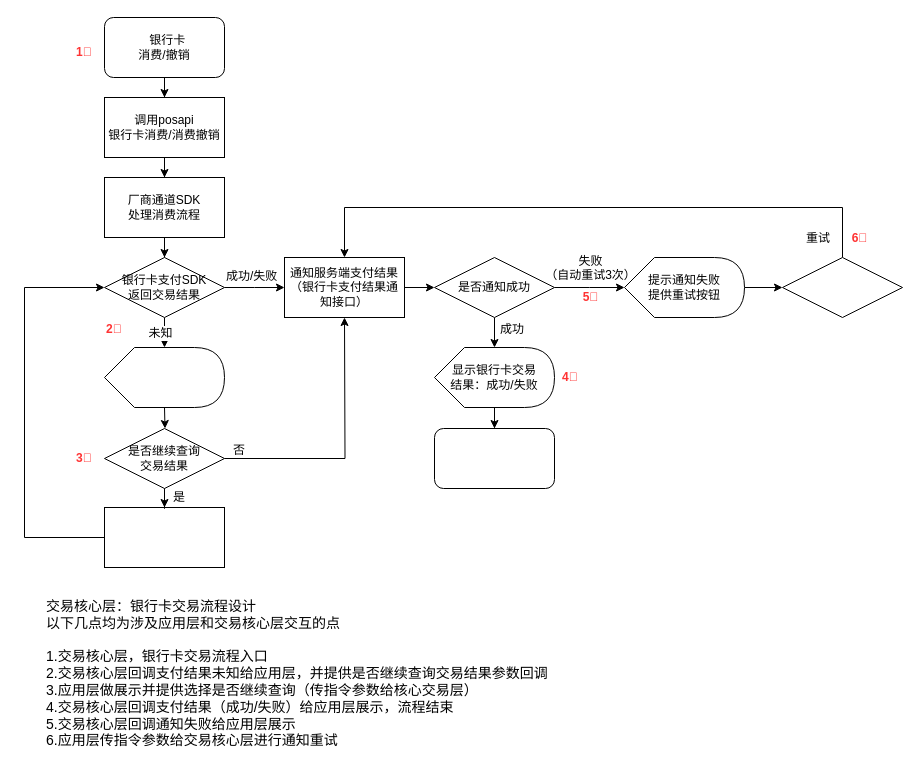
This 920x784 diagram has some shape labels left out. Each missing label, with the centre of its shape:
后台通知重试: point (842, 287)
提示支付结果未知 提供是否继续查询: point (164, 377)
流程结束: point (494, 458)
调用posapi查询接口 （本地查询/渠道查询）: point (164, 537)
